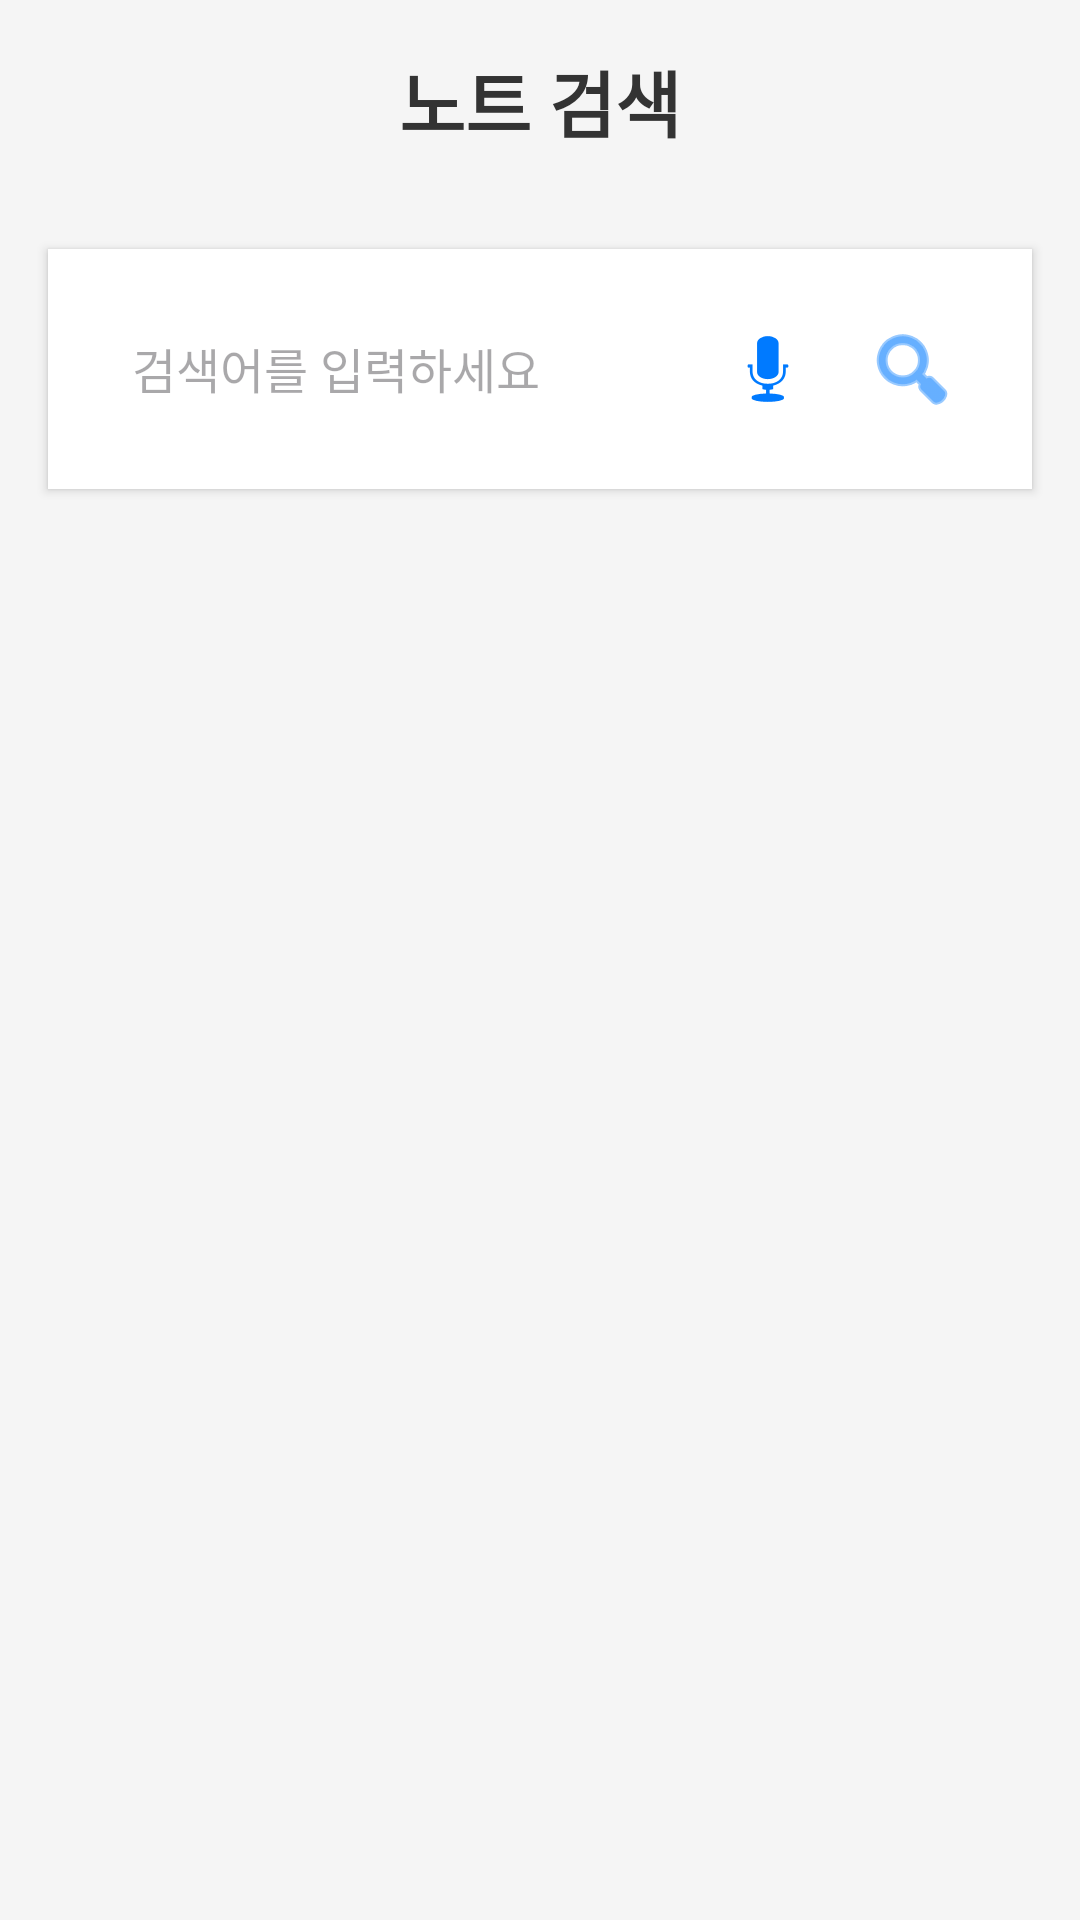

Screen size 1080w x 1920h. Icon name, then its box in pixels as detection(x1, y1, x2, y2):
음성 검색: detection(747, 336, 789, 402)
